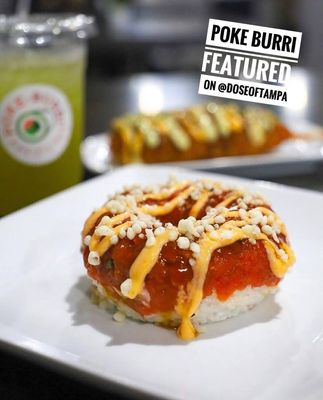pizza: (0, 12, 97, 218)
